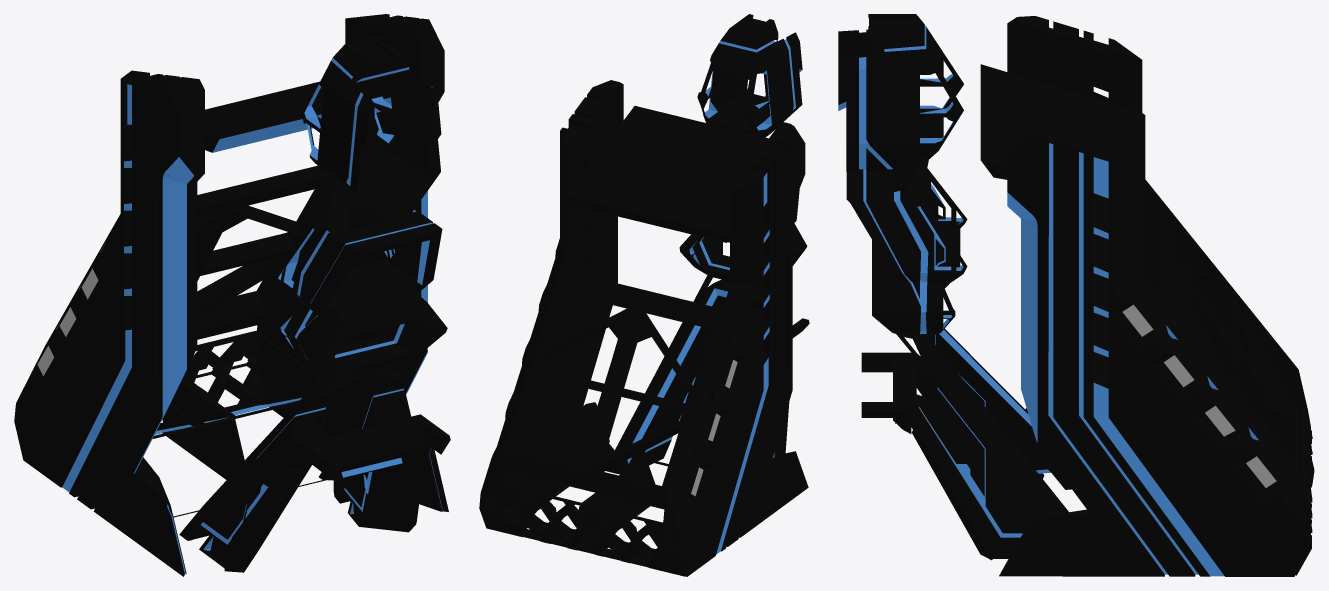
Rendered from butter.glb.
3 views of the same model, side by side, from view 1: azimuth 30°, elevation 25°; view 2: azimuth 150°, elevation 25°; view 3: azimuth 270°, elevation 25° (orthographic). The views are drawn at different scales.
Visible parts, largest first — view 1: Building; view 2: Building; view 3: Building.
Boxes of the visible parts, bbox=[...] form: Building: bbox=[14, 14, 450, 576]; Building: bbox=[479, 14, 809, 576]; Building: bbox=[838, 14, 1314, 576].
Size of what is drawn, in the model's own units: 75 by 145 by 126.
1 material, 1 textured.
